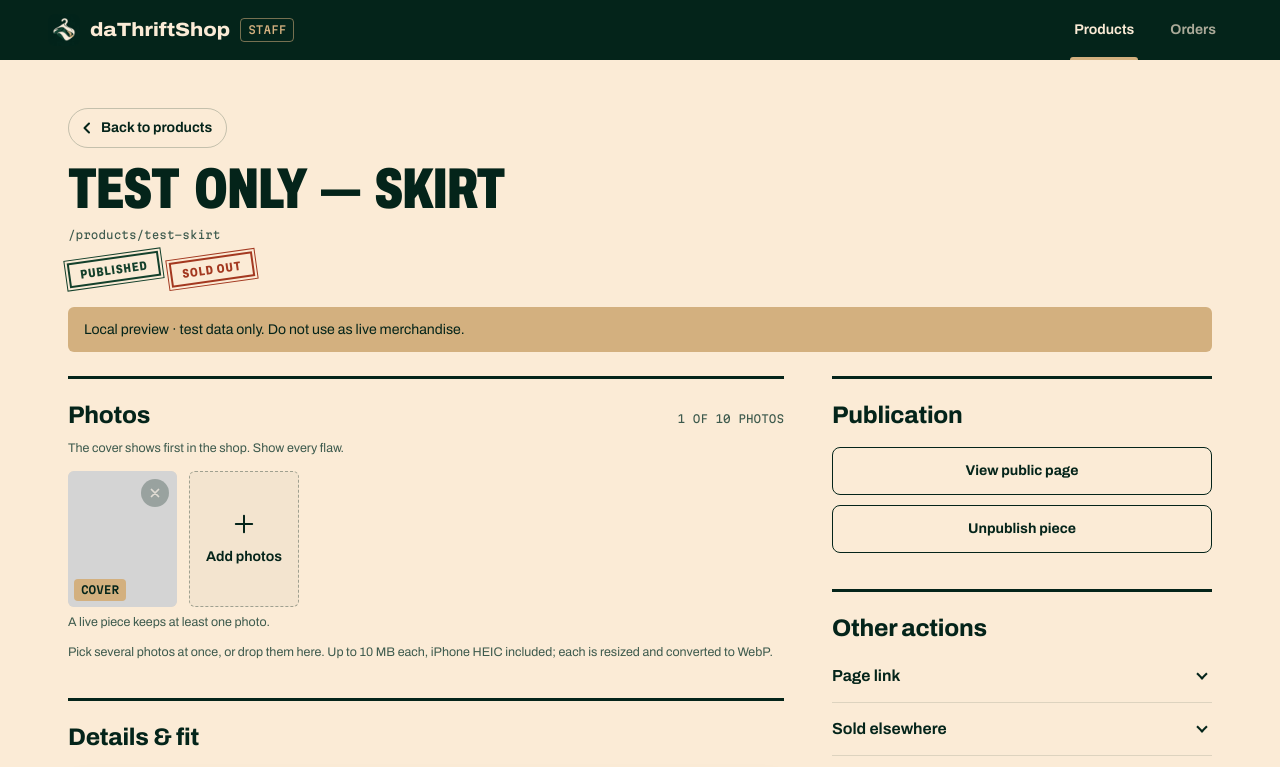
lets staff unpublish a sold piece
Click the button "Unpublish piece": (1022, 529) [832,505,1212,553]
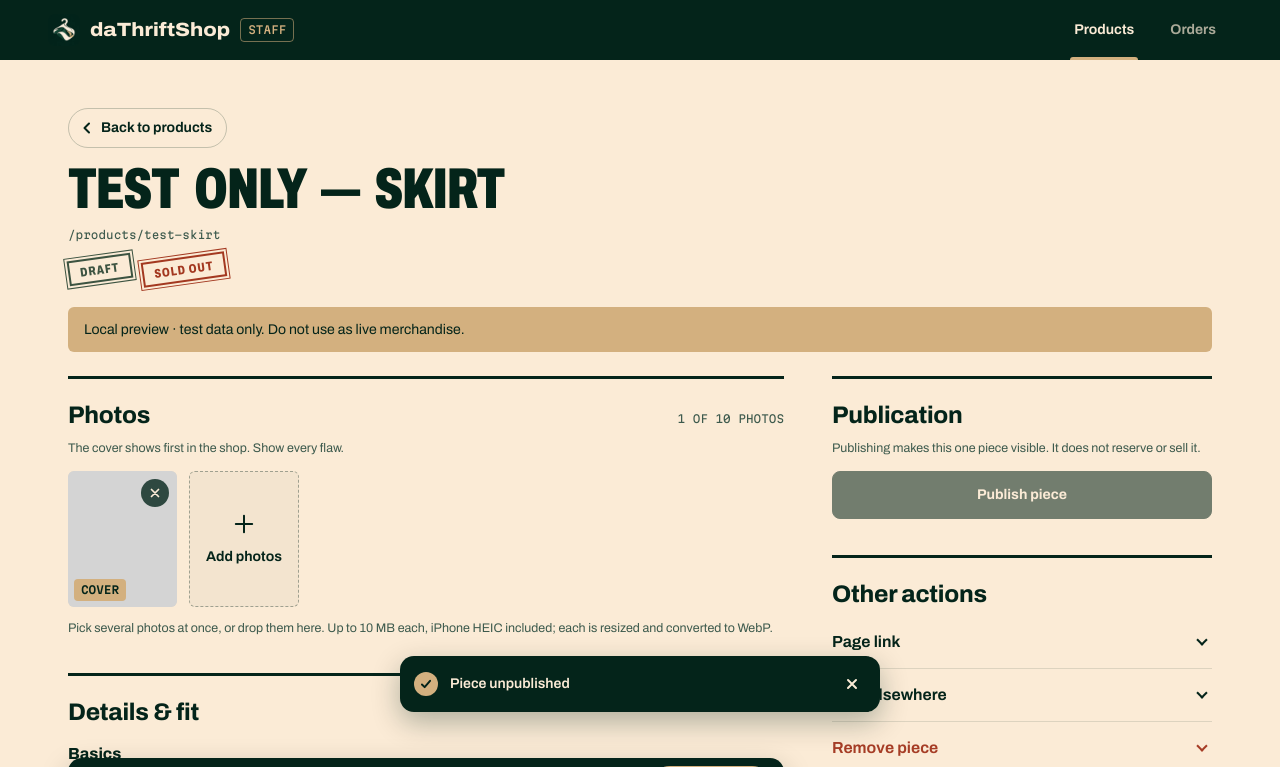
Now the text "Piece unpublished" is shown, box [450,676,570,691]
